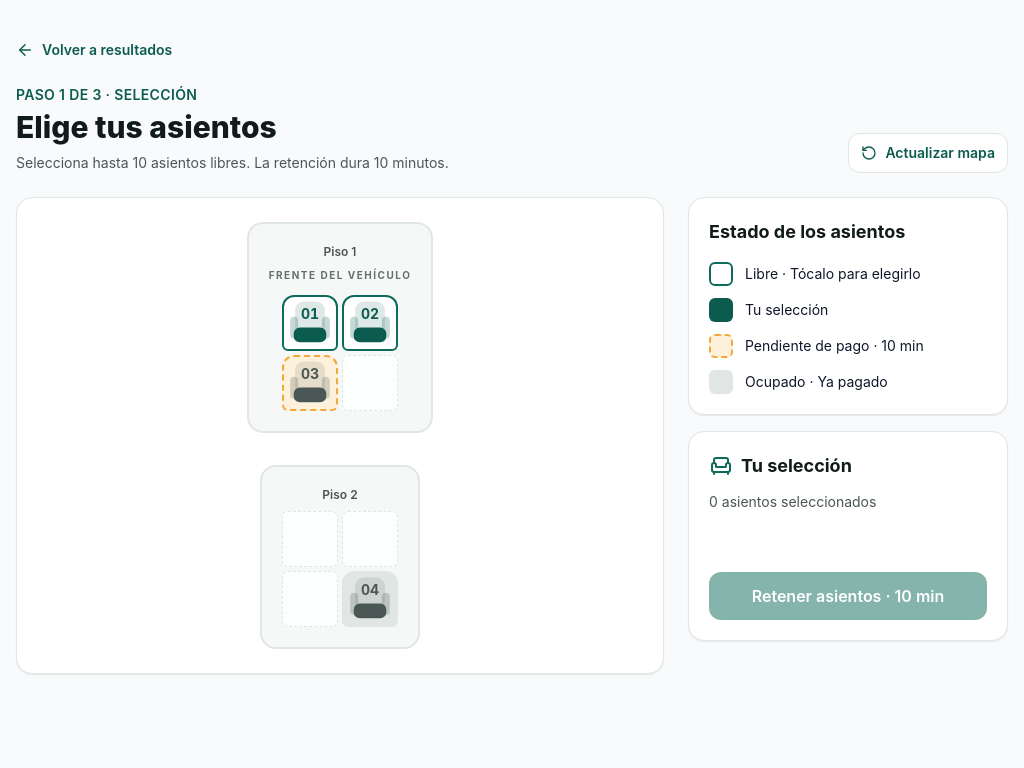
Test case: seat selection page › selects multiple seats and creates a hold with trip seat IDs
The width and height of the screenshot is (1024, 768).
Click the button named "Asiento 1, Libre".
click(310, 323)  # box x1=282 y1=295 x2=338 y2=351
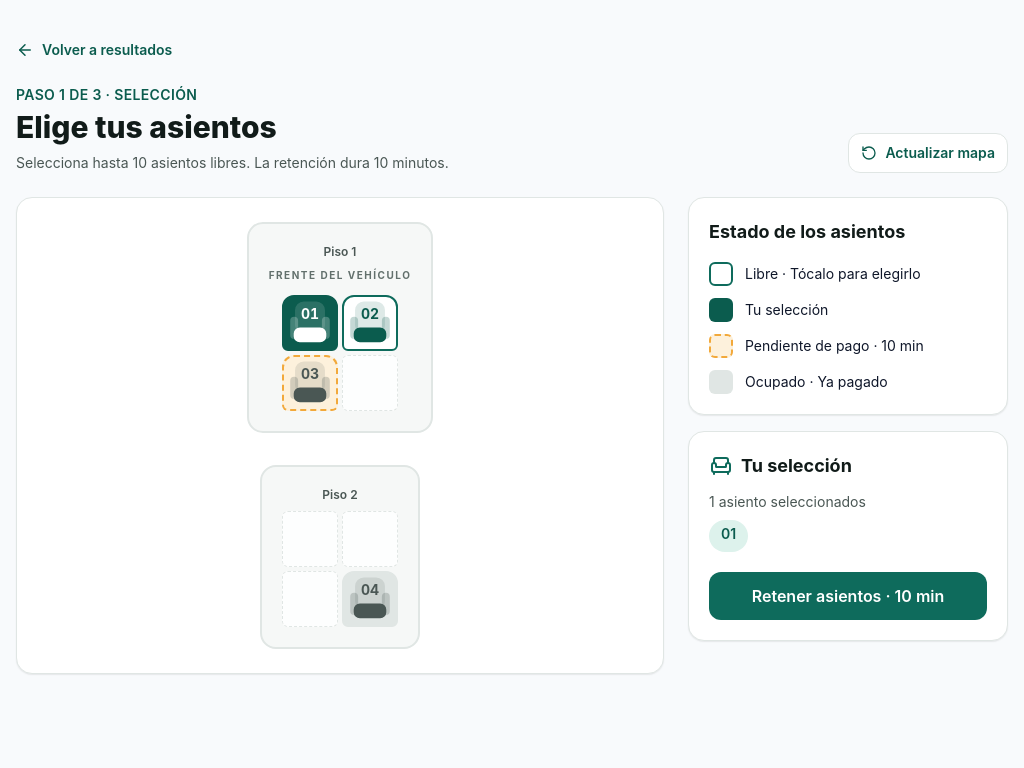
Click the button named "Asiento 2, Libre".
click(370, 323)  # box x1=342 y1=295 x2=398 y2=351
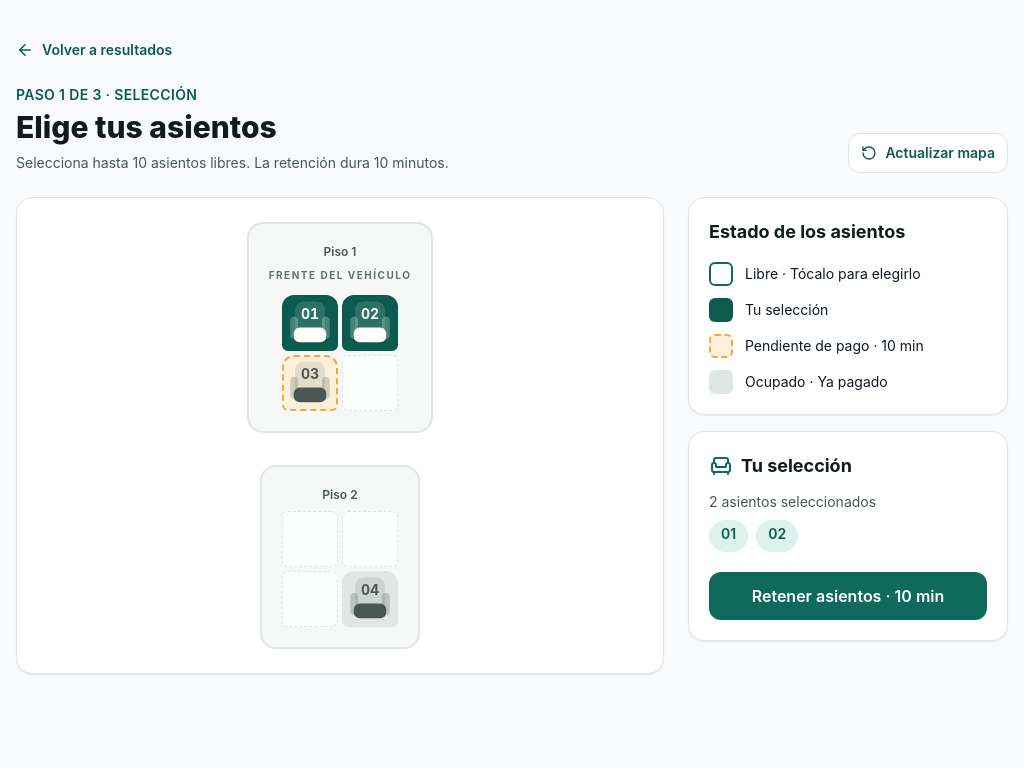
expect the text "2 asientos seleccionados" is shown: met, box x1=709 y1=493 x2=876 y2=510
Click the button "Retener asientos · 10 min".
click(848, 596)  # box x1=709 y1=572 x2=987 y2=620
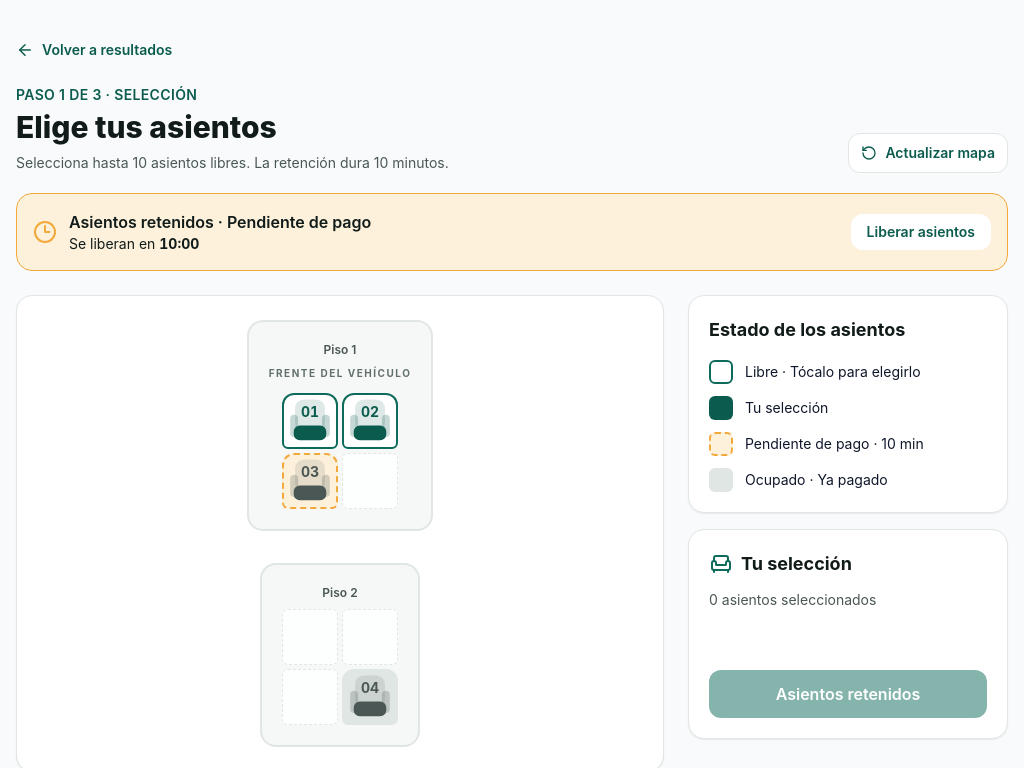
expect the text "Asientos retenidos · Pendiente de pago" is shown: met, box x1=69 y1=210 x2=371 y2=234
expect the message shows "10:00": met, box x1=159 y1=235 x2=199 y2=252
